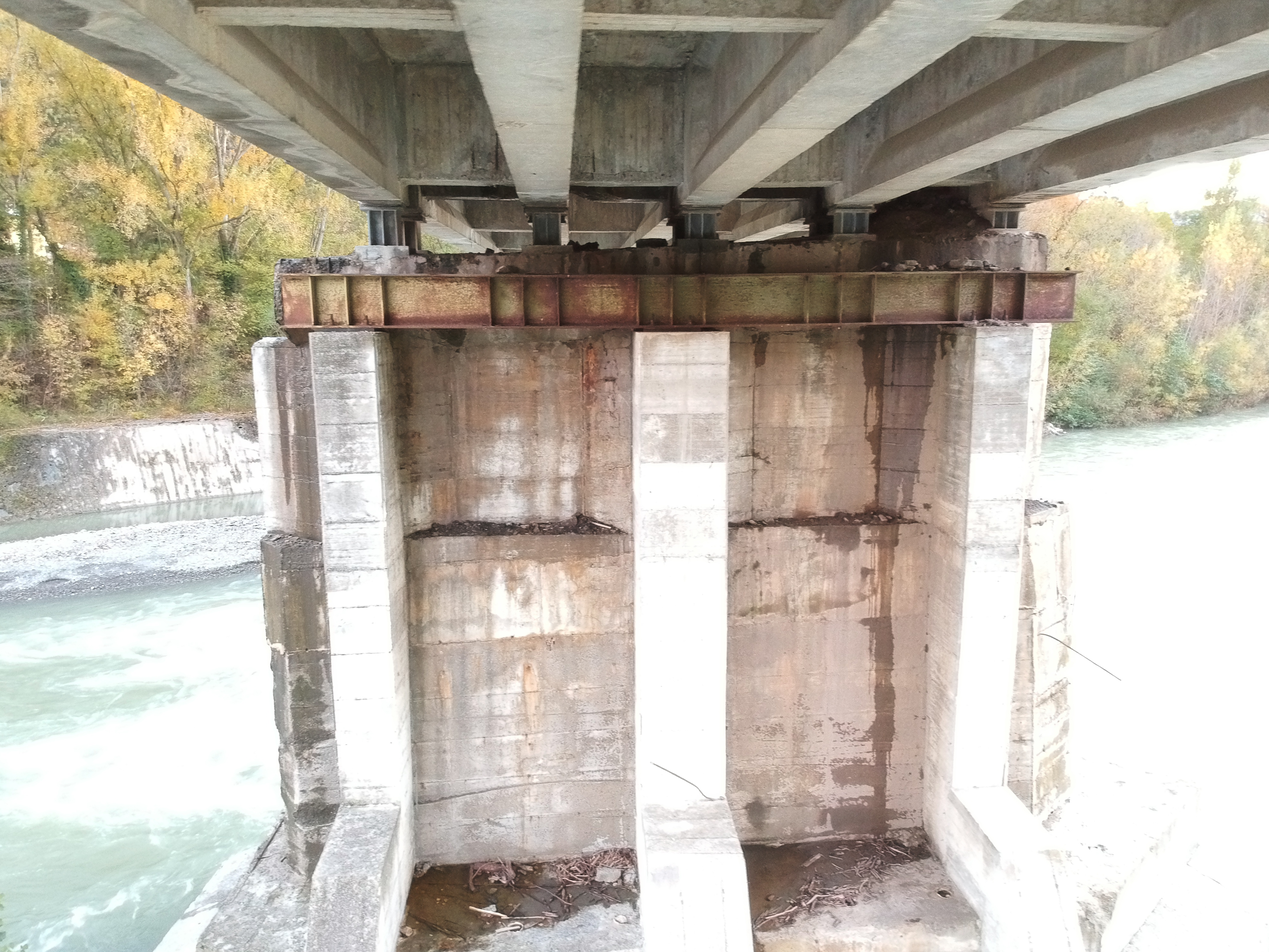Corrosion/Exposed rebar: (1035, 627, 1129, 686), (263, 248, 353, 275), (465, 137, 505, 175), (419, 250, 454, 273), (586, 148, 601, 176)
Crack: (971, 330, 1029, 343)
Debris: (870, 253, 1007, 274)
Leaching: (257, 337, 320, 537), (826, 324, 949, 362)
Spalling: (268, 228, 1058, 329), (262, 637, 288, 796), (570, 142, 670, 182), (459, 129, 508, 179), (415, 194, 439, 222)
